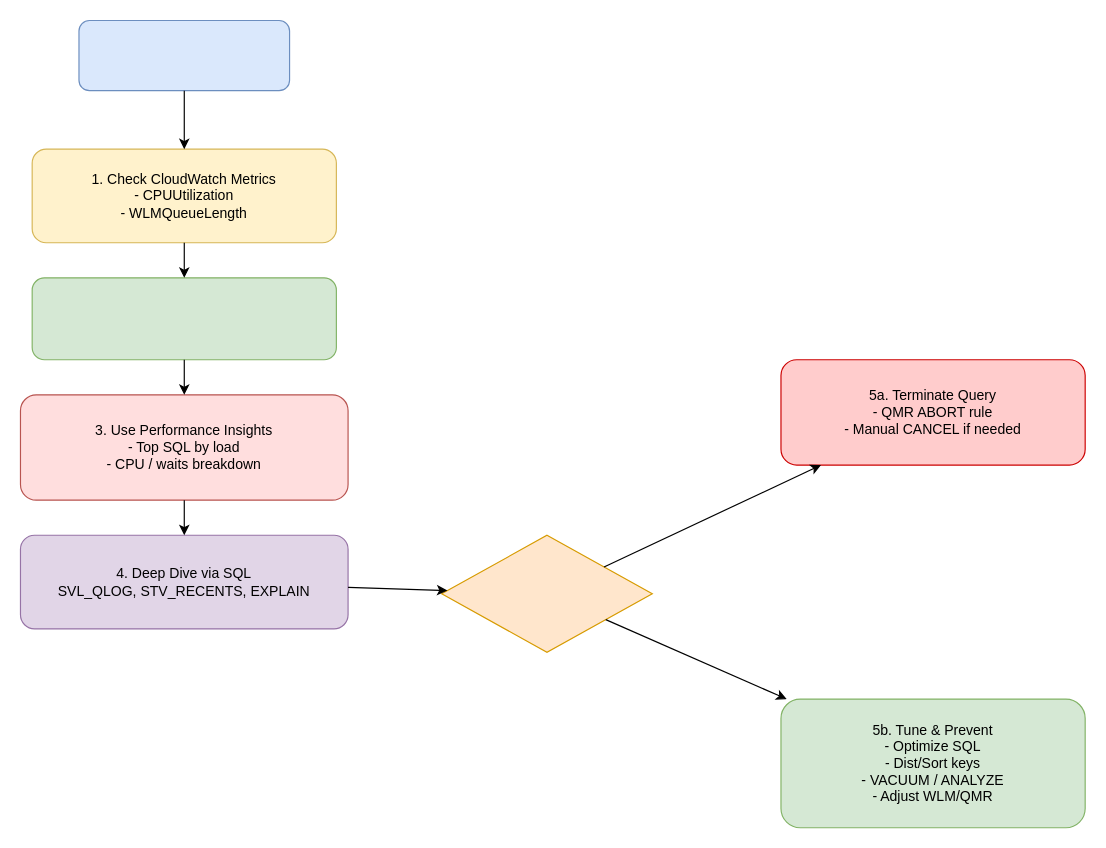
Some shapes in this 1106 by 848 pixel diagram are drawn without their labels. The shapes that lost their labels are listed below. From the top down, each one's centre as x and y in pixels, then its label:
At [184,55]: "CPU Spike Detected".
At [183,318]: "2. Identify Top Query Redshift Console > Queries".
At [546,593]: "Is Query Over Threshold (duration/CPU)?".
